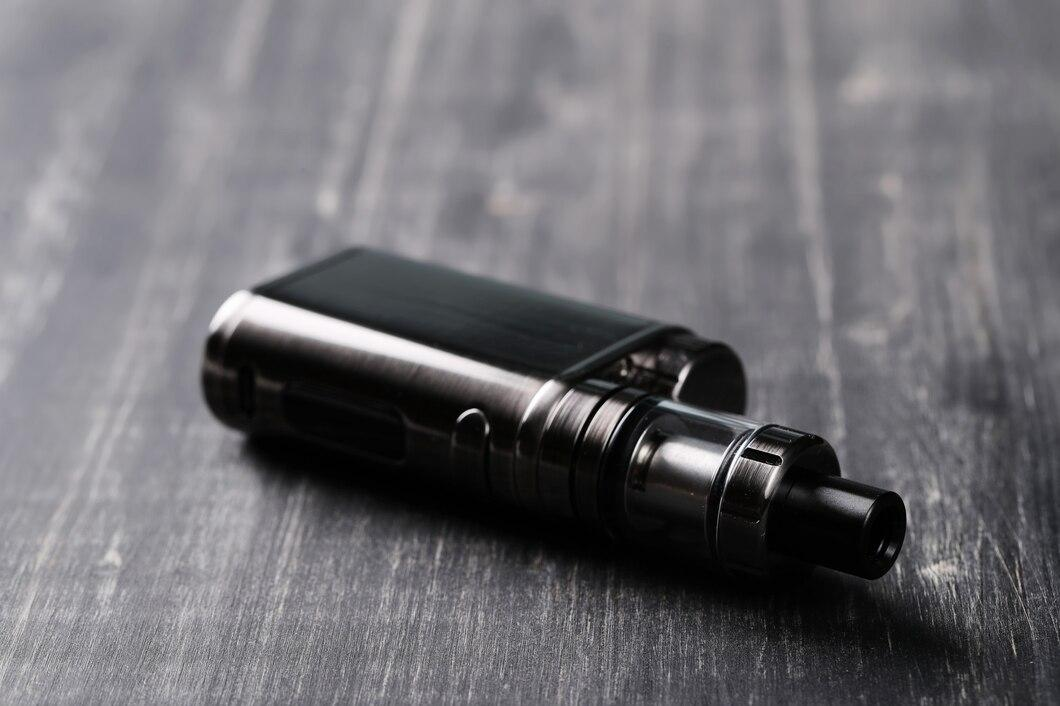Vape: (202, 248, 906, 579)
